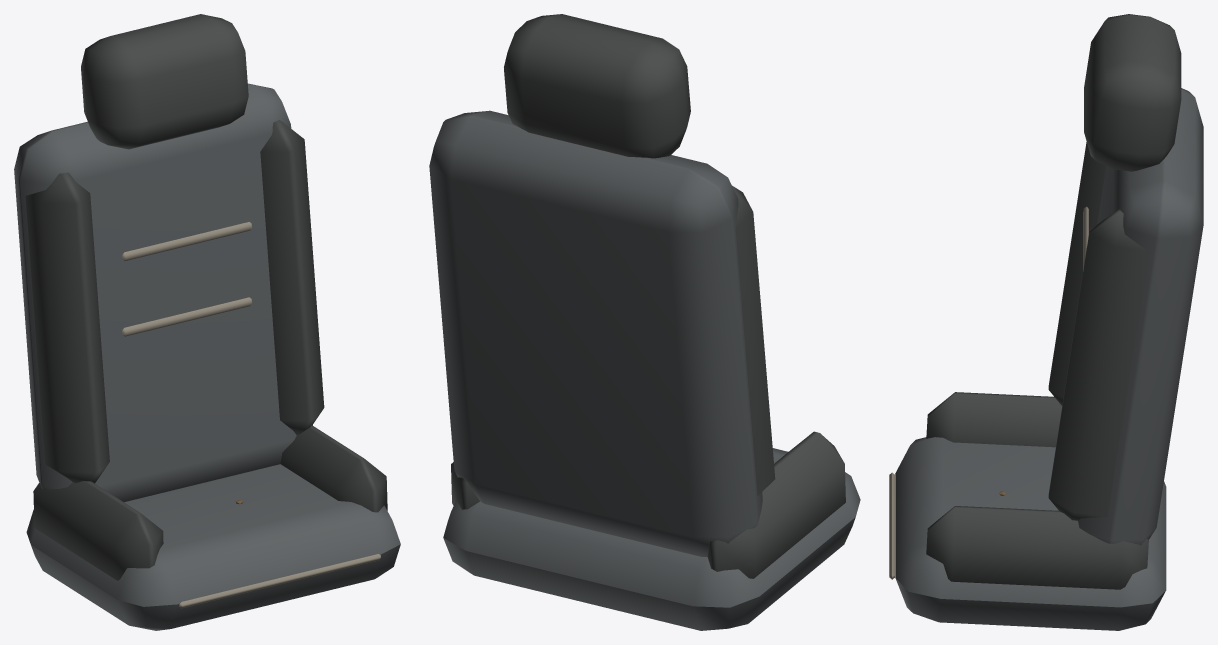
Rendered from clean_low_poly_car_seat.fbx.
3 renders of one model, left to right at view 1: azimuth 30°, elevation 25°; view 2: azimuth 150°, elevation 25°; view 3: azimuth 270°, elevation 25°, orthographic. The views are drawn at different scales.
Visible parts, largest first — view 1: Padded backrest, Seat cushion, Backrest side bolster, Chunky headrest, Backrest side bolster.001, Seat side bolster, Seat side bolster.001, Front cushion seam, Backrest seam accent.001, Backrest seam accent.002; view 2: Padded backrest, Seat cushion, Chunky headrest, Seat side bolster, Backrest side bolster, Seat side bolster.001; view 3: Seat cushion, Padded backrest, Backrest side bolster.001, Seat side bolster.001, Chunky headrest, Seat side bolster, Backrest side bolster, Front cushion seam.
Part boxes in pixels (x1,y1,x2,y2): Padded backrest: [14, 83, 312, 502]; Seat cushion: [26, 464, 400, 630]; Backrest side bolster: [25, 172, 109, 483]; Chunky headrest: [81, 14, 248, 149]; Backrest side bolster.001: [260, 120, 324, 434]; Seat side bolster: [33, 481, 163, 580]; Seat side bolster.001: [280, 425, 387, 512]; Front cushion seam: [179, 554, 380, 608]; Backrest seam accent.001: [122, 297, 252, 336]; Backrest seam accent.002: [122, 222, 252, 260]; Padded backrest: [429, 110, 762, 556]; Seat cushion: [443, 448, 860, 630]; Chunky headrest: [504, 14, 690, 158]; Seat side bolster: [707, 431, 845, 578]; Backrest side bolster: [732, 185, 775, 495]; Seat side bolster.001: [451, 462, 479, 509]; Seat cushion: [895, 437, 1166, 630]; Padded backrest: [1078, 88, 1203, 545]; Backrest side bolster.001: [1048, 209, 1148, 520]; Seat side bolster.001: [926, 506, 1148, 589]; Chunky headrest: [1084, 14, 1181, 171]; Seat side bolster: [926, 392, 1062, 447]; Backrest side bolster: [1048, 142, 1106, 405]; Front cushion seam: [889, 472, 894, 579].
Bounding box in the file's own units: 155 × 274 × 145.
